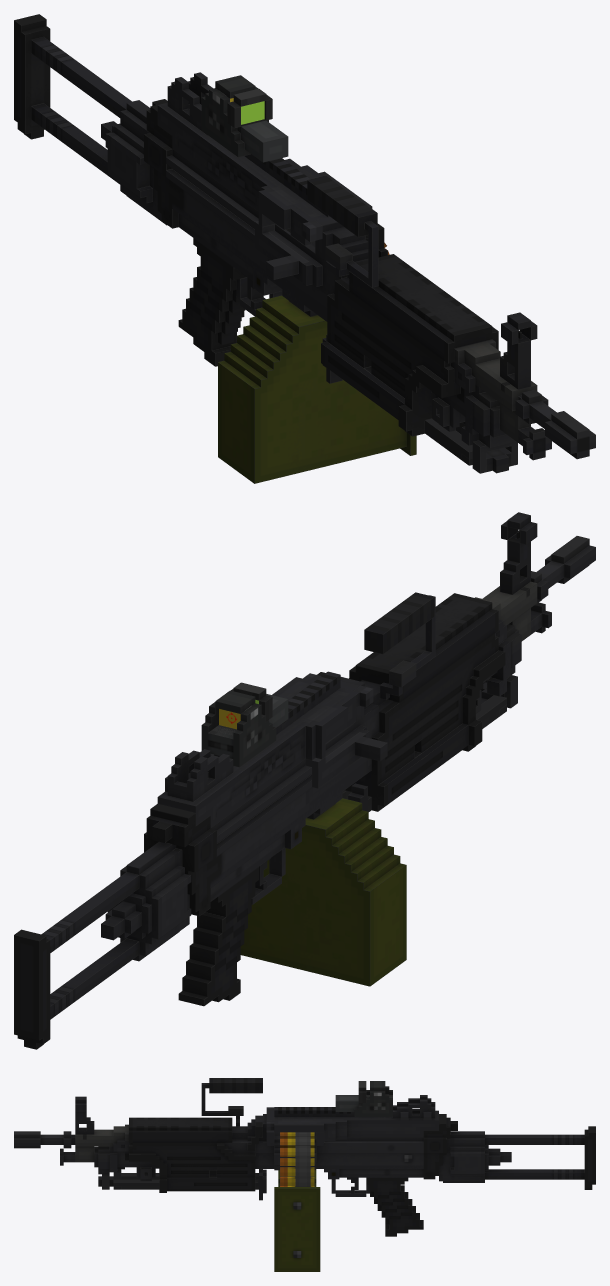
3 views of the same model, one above another, from view 1: azimuth 30°, elevation 25°; view 2: azimuth 150°, elevation 25°; view 3: azimuth 270°, elevation 25° (orthographic). The views are drawn at different scales.
Visible parts, largest first — view 1: M249, M249_CLIP, M249_BODY_P2, SCOPE_EOTECH, M249_BOLT, SCOPE_AIMPOINT, M249_DIPOD_LEG1, M249_DIPOD; view 2: M249, M249_CLIP, M249_BODY_P2, SCOPE_EOTECH, M249_BOLT, M249_DIPOD_LEG1, SCOPE_AIMPOINT; view 3: M249, M249_BODY_P2, M249_CLIP, SCOPE_EOTECH, M249_DIPOD_LEG2, M249_BULLET3, M249_BULLET6, M249_BULLET2, M249_BULLET5, M249_BULLET4.
Boxes of the visible parts, box(x1,y1,x2,y2) form: M249: box(14, 14, 595, 473); M249_CLIP: box(218, 295, 416, 483); M249_BODY_P2: box(157, 72, 372, 245); SCOPE_EOTECH: box(201, 75, 288, 162); M249_BOLT: box(255, 221, 308, 282); SCOPE_AIMPOINT: box(227, 88, 272, 127); M249_DIPOD_LEG1: box(322, 334, 472, 459); M249_DIPOD: box(461, 448, 511, 473); M249: box(14, 512, 595, 1049); M249_CLIP: box(240, 798, 406, 986); M249_BODY_P2: box(157, 671, 373, 827); SCOPE_EOTECH: box(201, 690, 288, 767); M249_BOLT: box(305, 732, 387, 788); M249_DIPOD_LEG1: box(348, 695, 506, 811); SCOPE_AIMPOINT: box(208, 682, 272, 738); M249: box(14, 1078, 595, 1236); M249_BODY_P2: box(266, 1095, 438, 1140); M249_CLIP: box(274, 1170, 320, 1271); SCOPE_EOTECH: box(335, 1081, 392, 1116); M249_DIPOD_LEG2: box(113, 1172, 266, 1200); M249_BULLET3: box(280, 1166, 314, 1176); M249_BULLET6: box(280, 1136, 314, 1147); M249_BULLET2: box(280, 1176, 314, 1185); M249_BULLET5: box(280, 1145, 314, 1156); M249_BULLET4: box(280, 1155, 314, 1165).
Size of the model in its own units: 0.2461 by 0.4725 by 1.5.
Materials: 5 (5 with a texture image).
